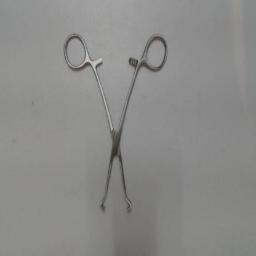Babcock Tissue Forceps: (59, 32, 169, 216)
